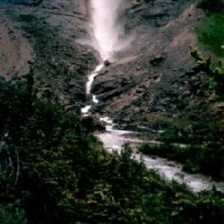neutral: (3, 2, 219, 208)
